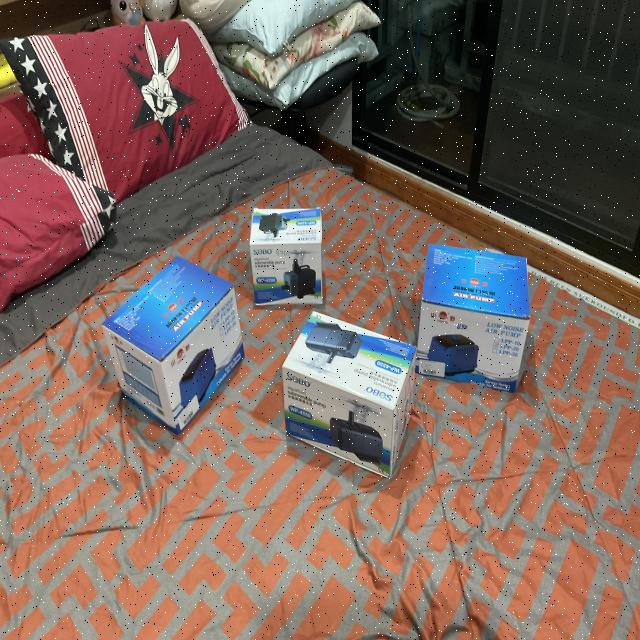SOBO_WP_4200: (279, 288, 431, 480), (240, 190, 336, 320)
YAMANO_LPP_20: (108, 245, 254, 442), (411, 233, 564, 397)
